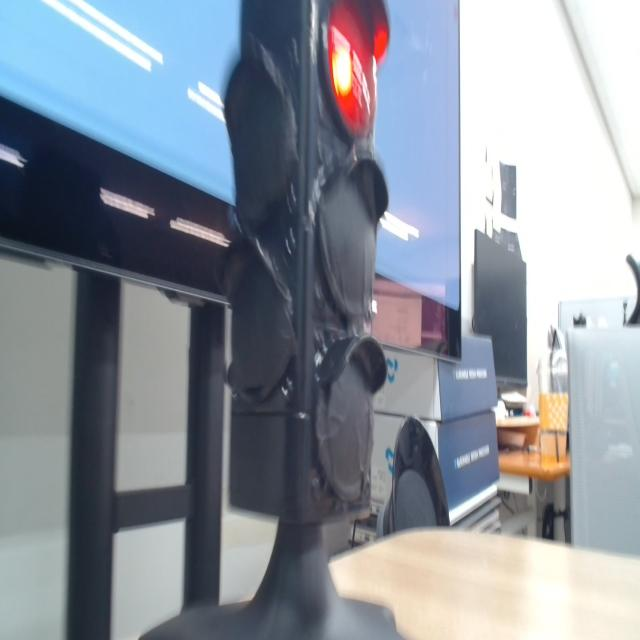red_light: (327, 0, 376, 136)
